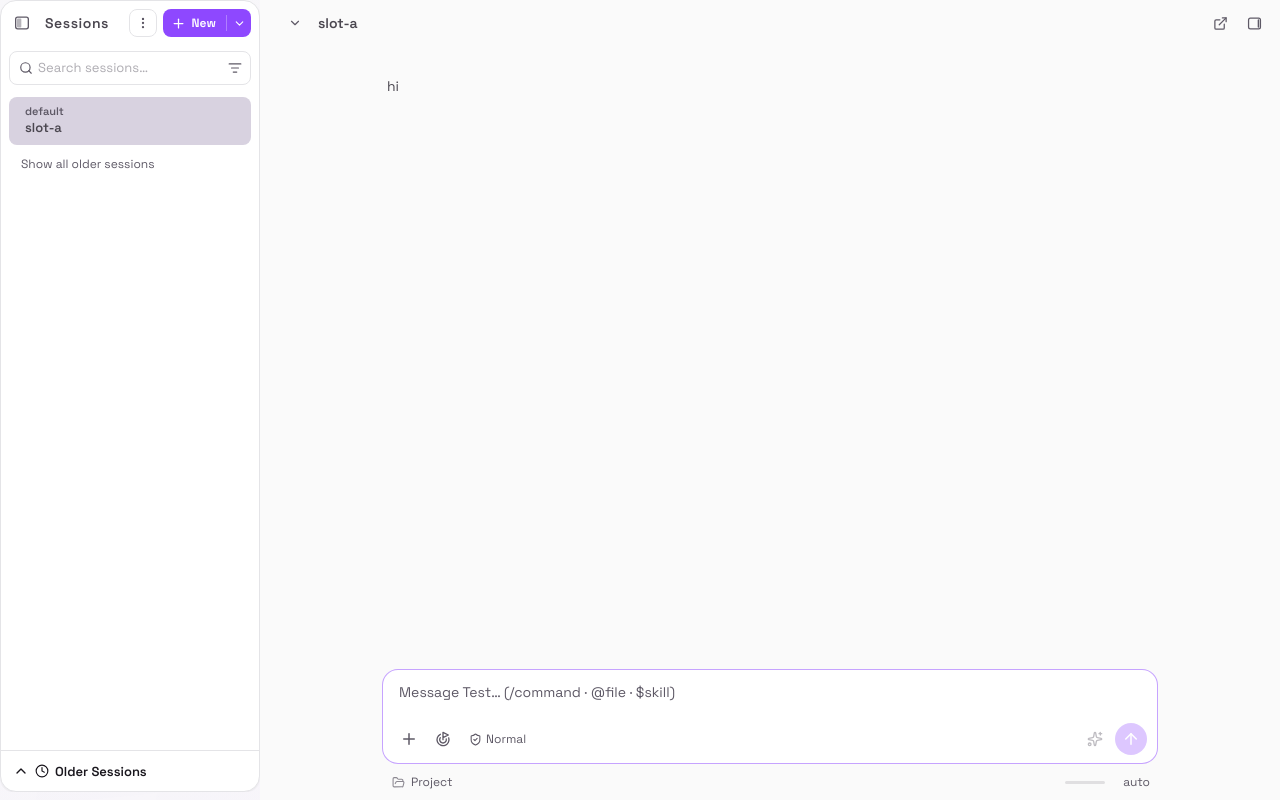
Scenario: ChatPage draft persistence › restores draft to localStorage on connection error
The width and height of the screenshot is (1280, 800).
Type "precious prompt" into the text box named "Message input" at (770, 692), box [383, 670, 1157, 714]
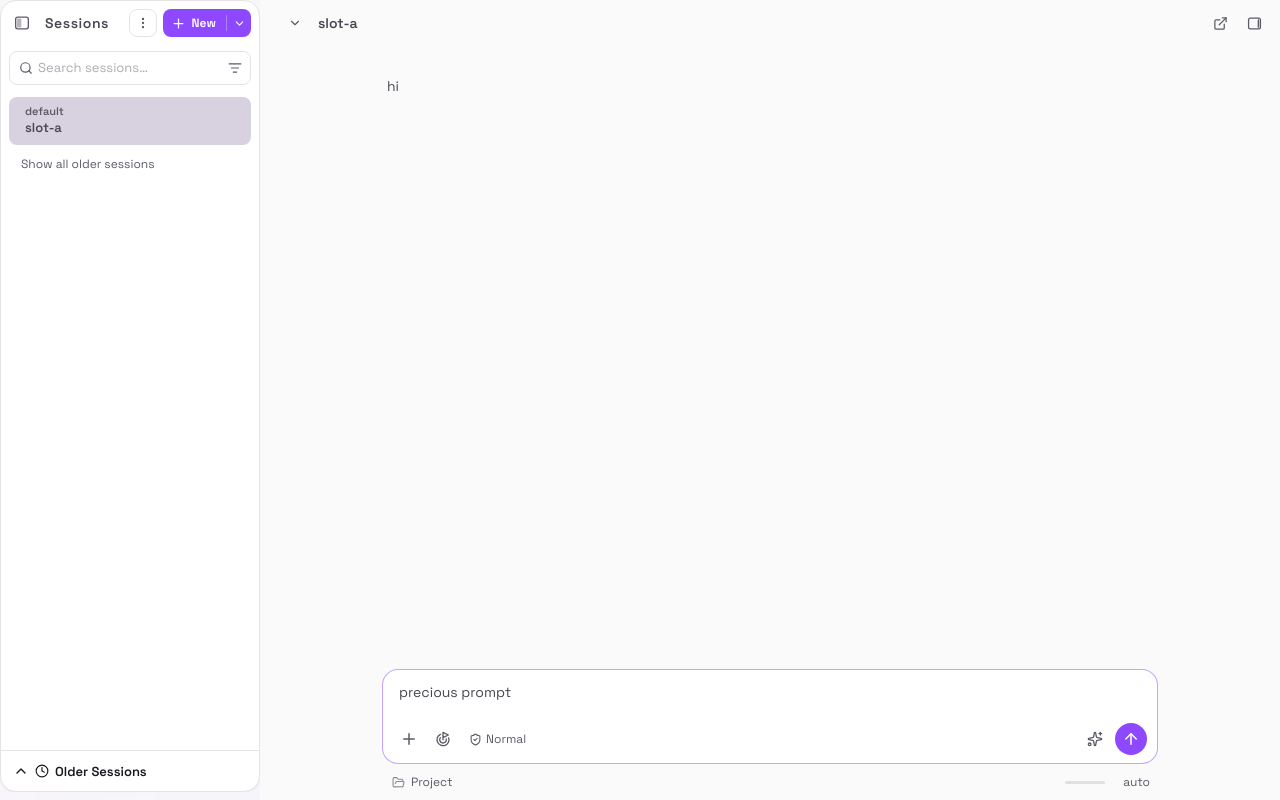
// Send triggers connection error (sendChat rejects)
Press Enter in the text box named "Message input", box [383, 670, 1157, 714]
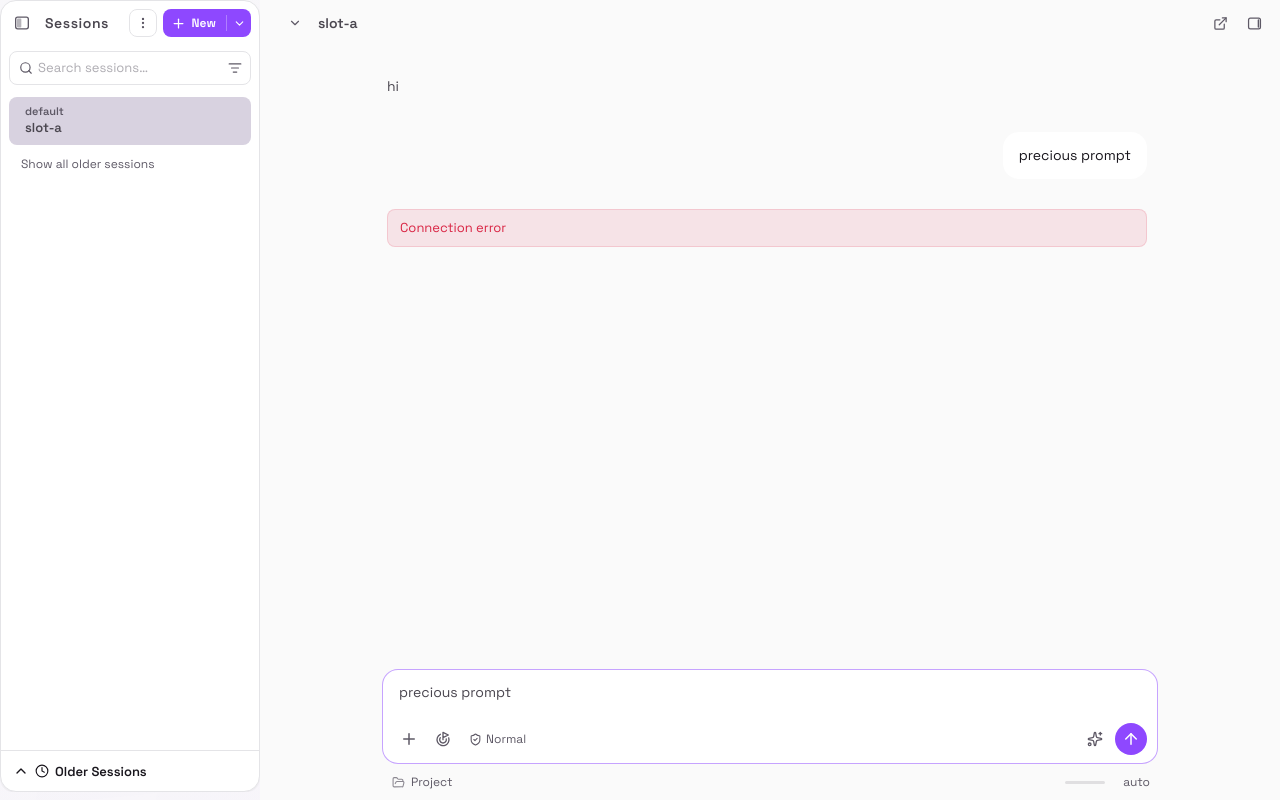
Now the text "precious prompt" is shown, box [1019, 144, 1131, 167]
